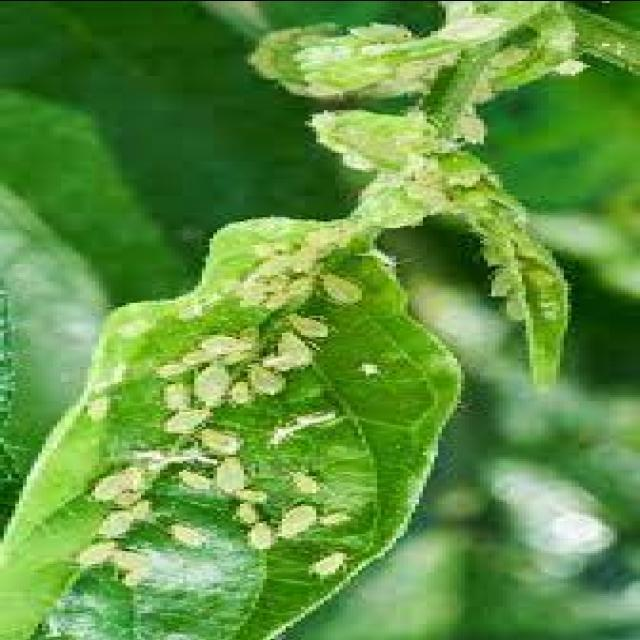aphid: (426, 15, 518, 49), (190, 359, 248, 406), (316, 268, 377, 310), (274, 501, 332, 544), (449, 109, 503, 152), (270, 330, 328, 370), (282, 310, 350, 344), (156, 404, 228, 436), (206, 454, 260, 494), (304, 548, 366, 582), (548, 50, 606, 86), (354, 32, 412, 66), (68, 538, 125, 572), (240, 362, 297, 396), (195, 330, 262, 358), (194, 426, 256, 456), (480, 266, 530, 302), (164, 520, 218, 552), (91, 508, 145, 540), (495, 291, 541, 325), (328, 152, 388, 176), (244, 520, 286, 554), (91, 473, 138, 503), (175, 466, 221, 496), (80, 396, 122, 428), (144, 357, 198, 381), (160, 381, 198, 415), (290, 468, 336, 496), (232, 501, 274, 529), (228, 379, 266, 409), (320, 507, 366, 529), (286, 276, 324, 300)
